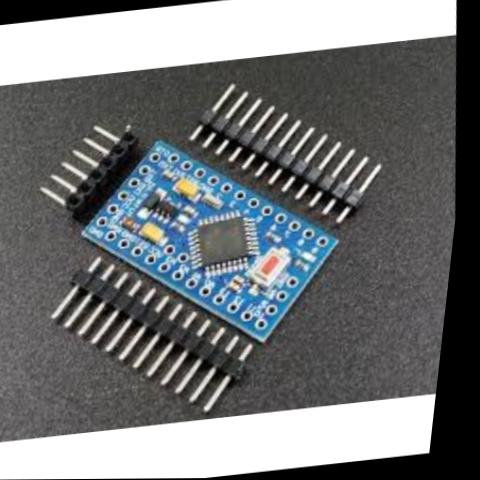Arduino-Pro-Mini: (47, 102, 383, 375)
